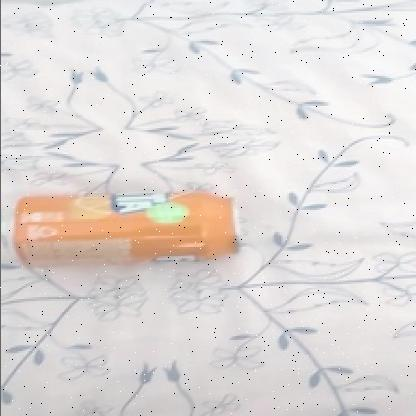Can: (12, 192, 245, 267)
